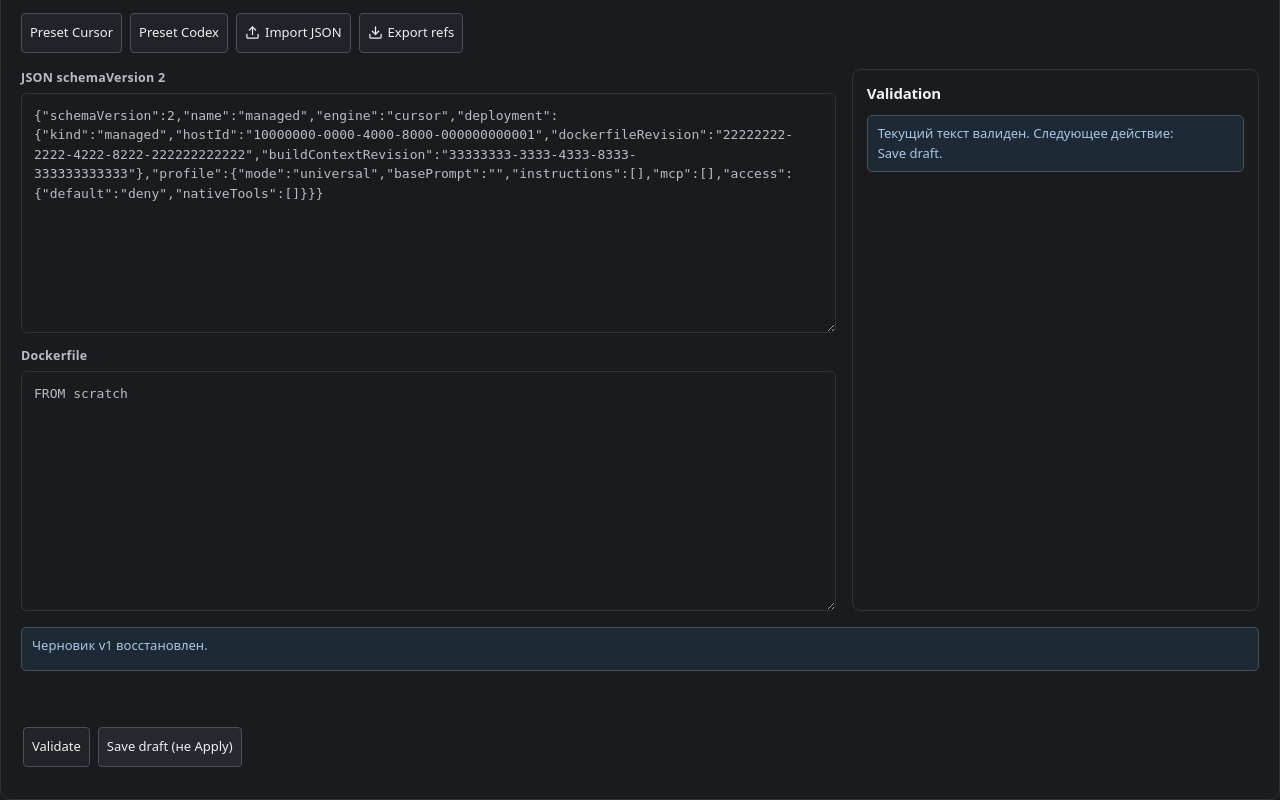
Test case: clears a loaded manifest when restoring a server conflict without one
The image size is (1280, 800).
(page scrolled)
Expected: the text "Черновик v1 восстановлен." is shown, [21, 627, 1259, 671]
Click the button "Save draft (не Apply)" at (170, 747), box [98, 727, 242, 767]
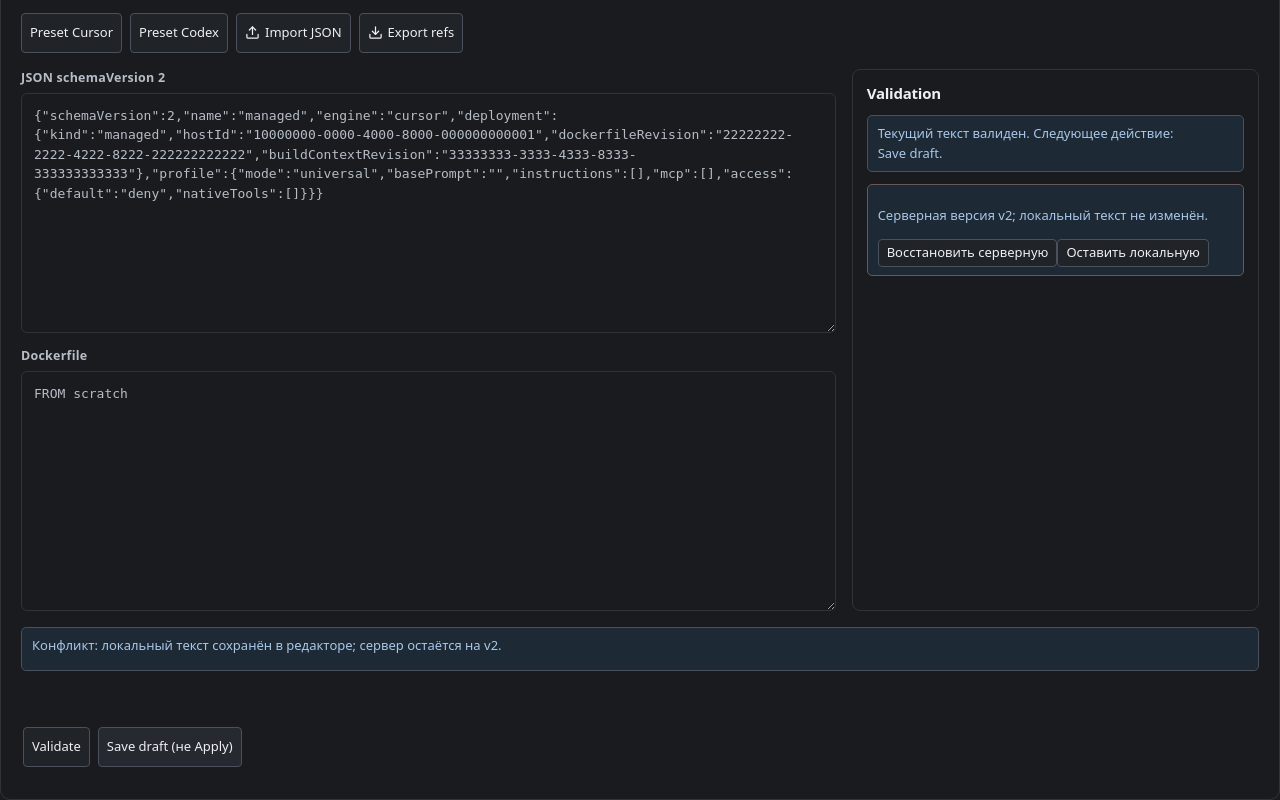
Expected: the text "Серверная версия v2; локальный текст не изменён." is shown, [878, 206, 1233, 226]
Click the button "Восстановить серверную" at (968, 253), box [878, 239, 1057, 267]
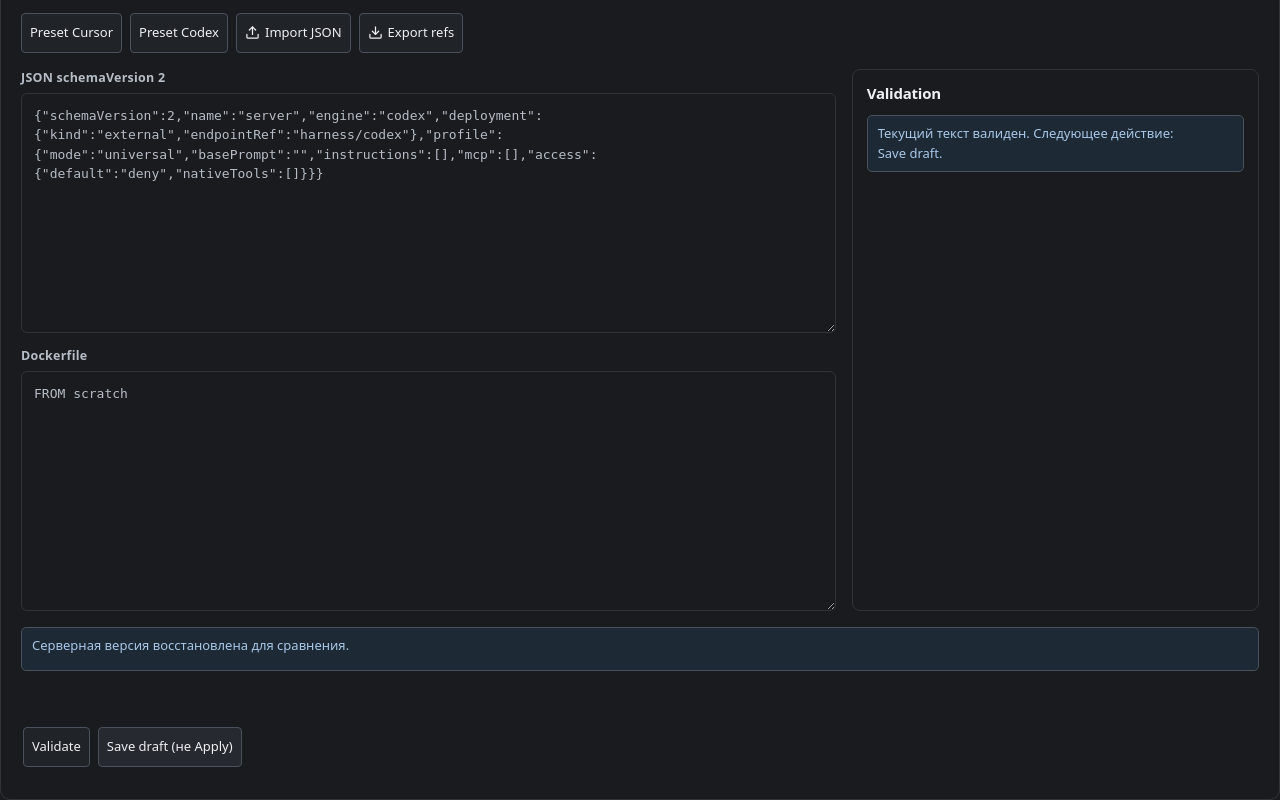
Click the button "Save draft (не Apply)" at (170, 747), box [98, 727, 242, 767]
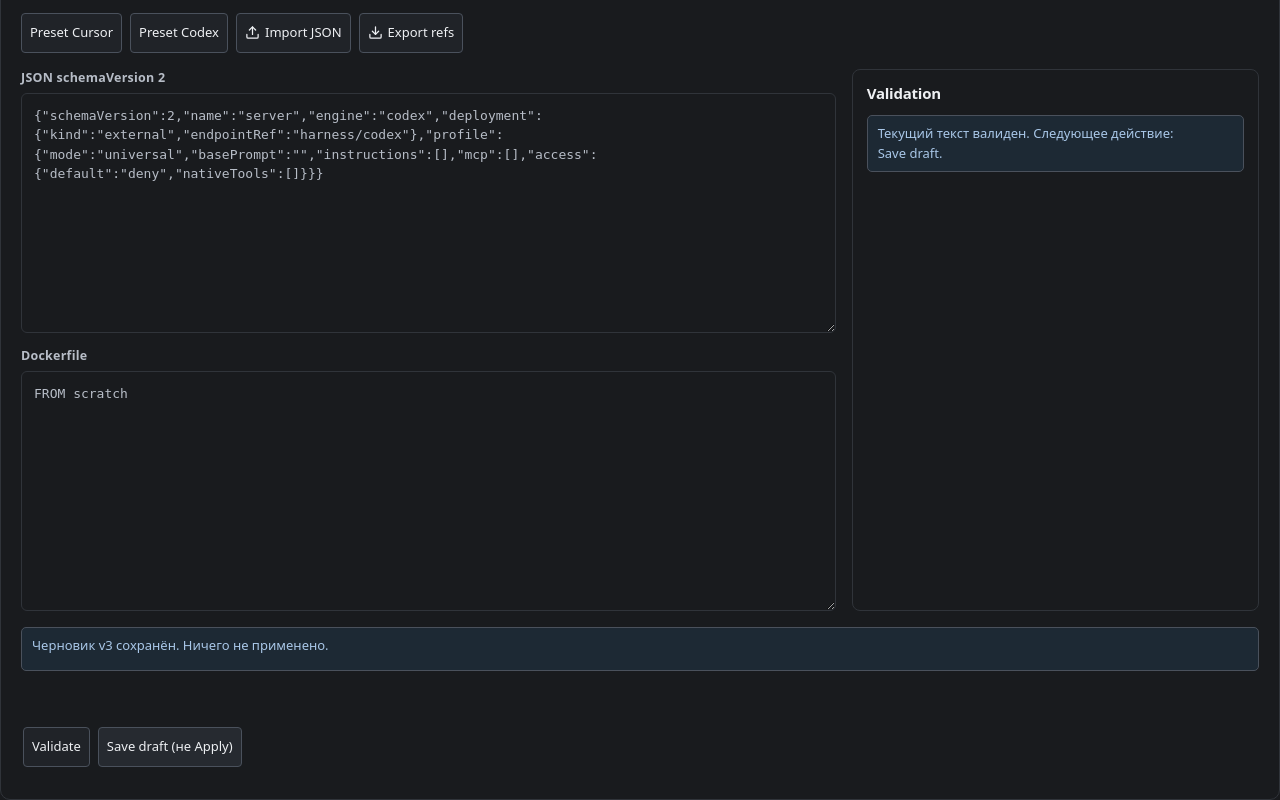
Expected: the text "Черновик v3 сохранён. Ничего не применено." is shown, [21, 627, 1259, 671]
